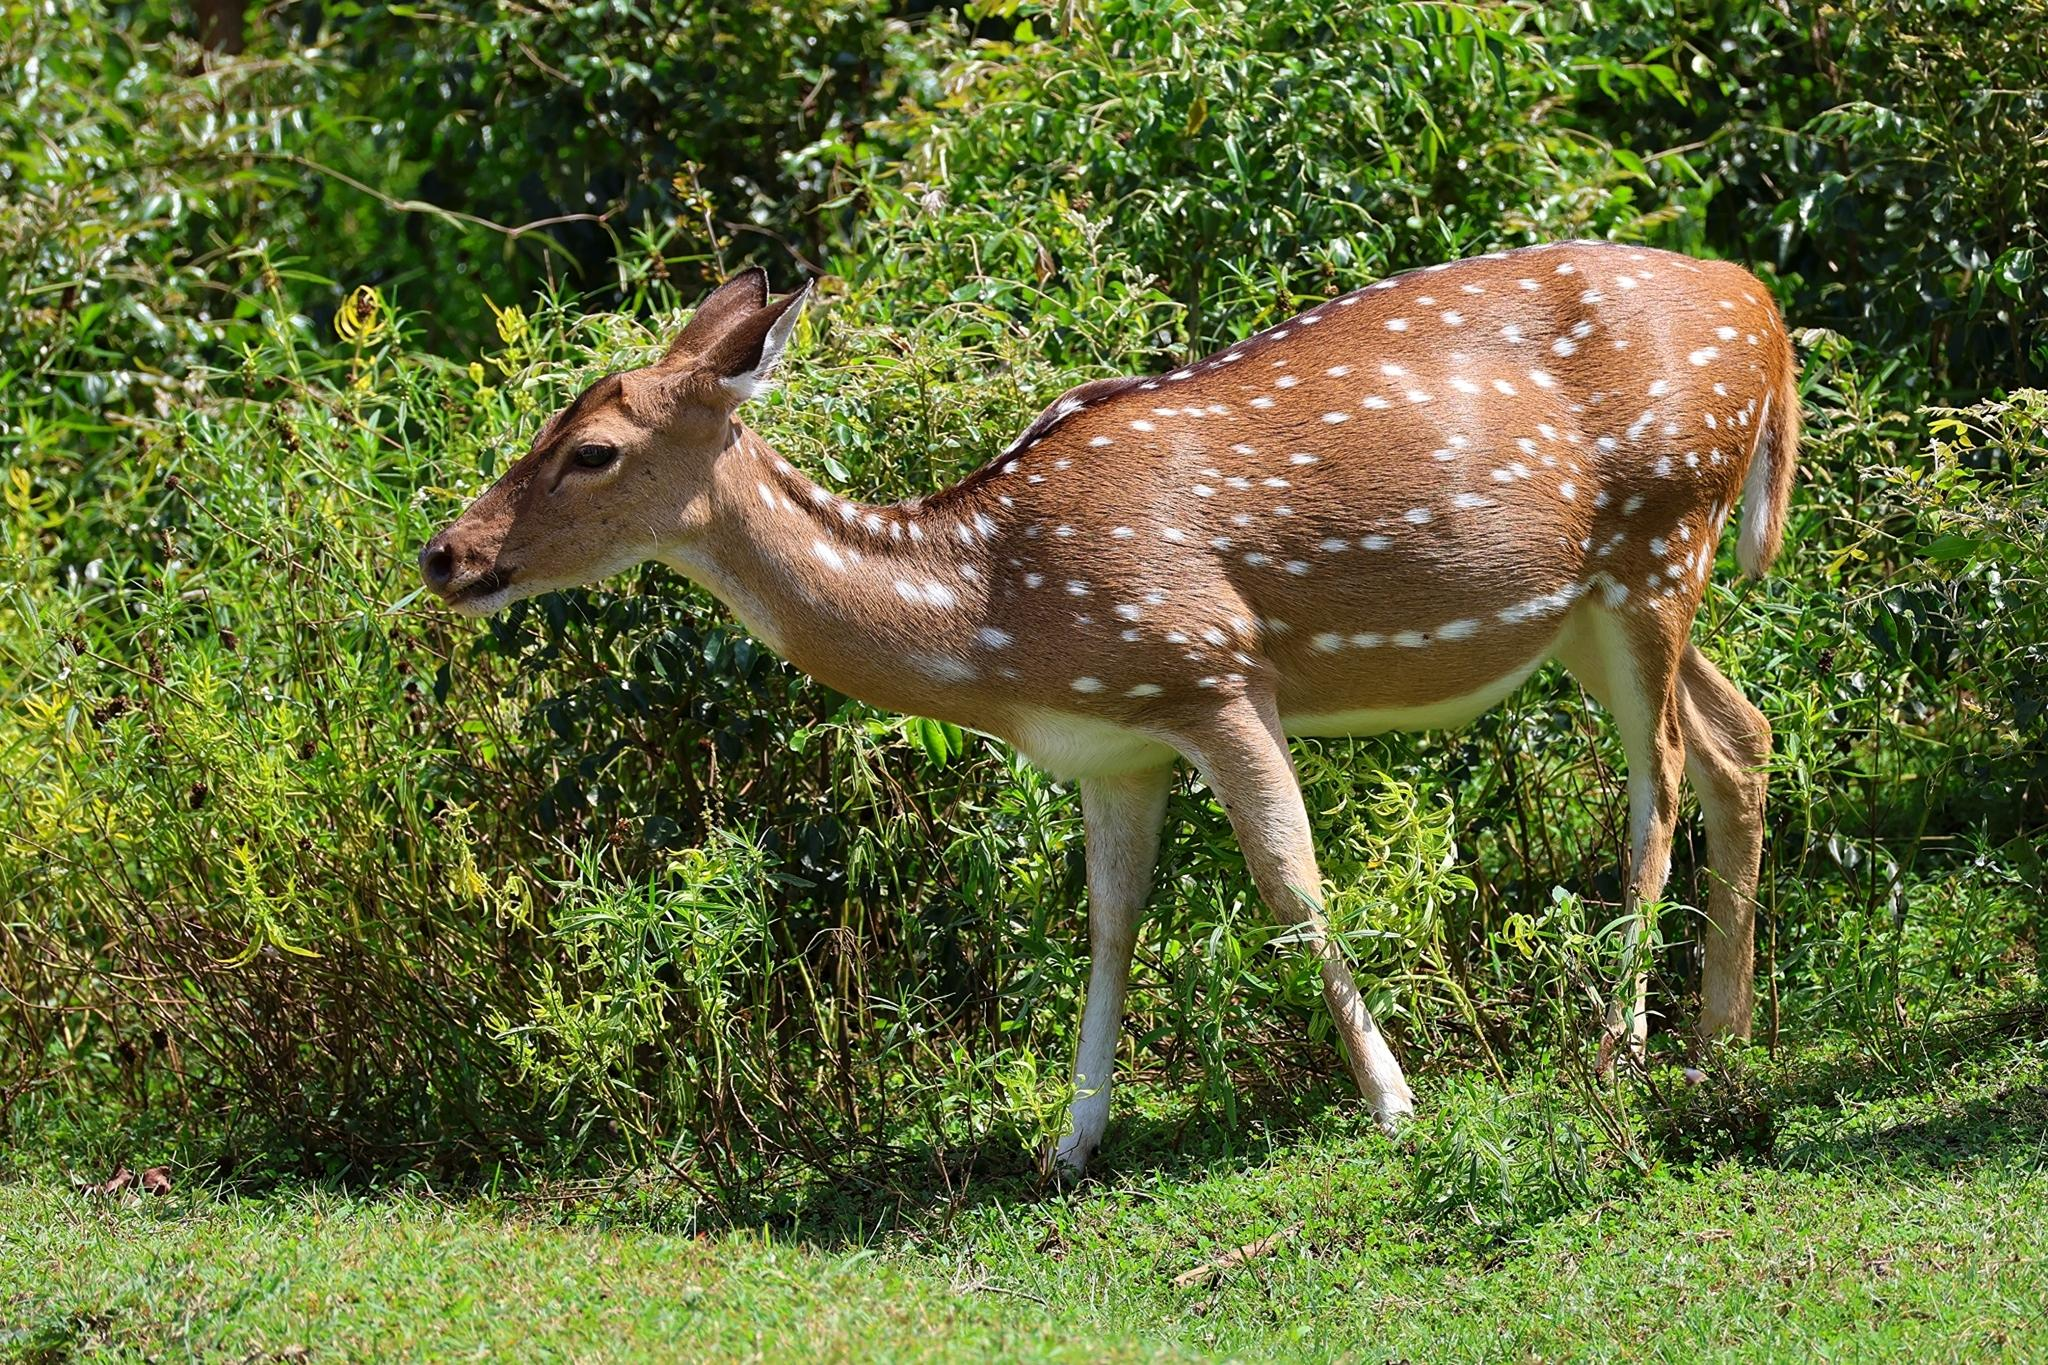Deer: (419, 244, 1798, 1172)
